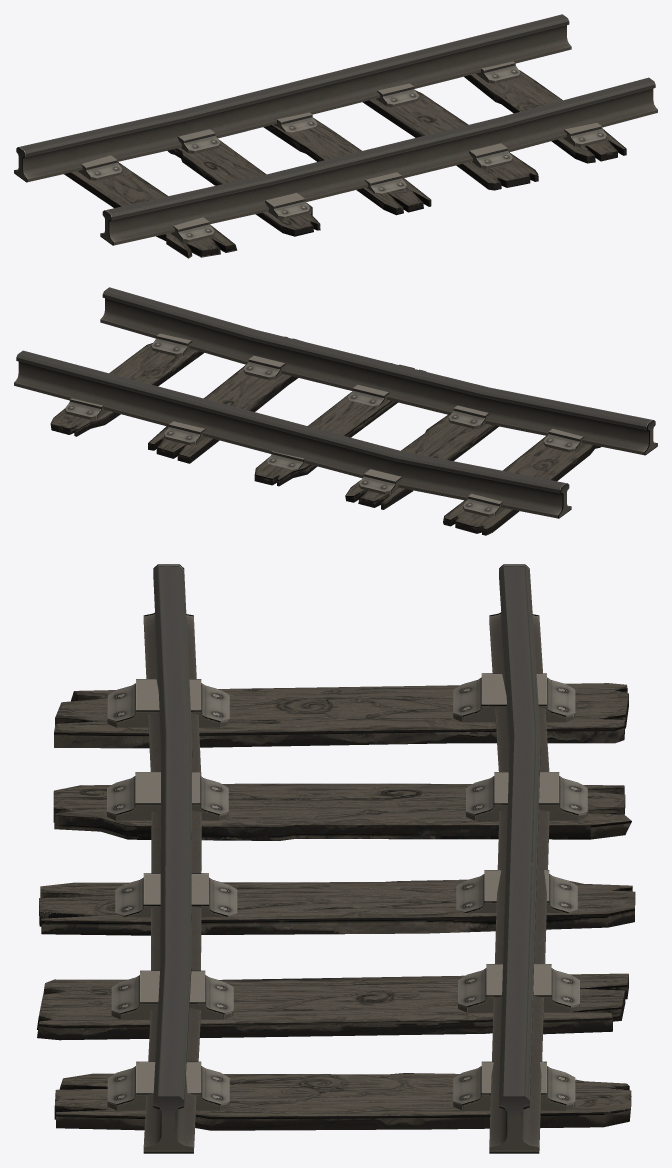
Rendered from mines_tracks001.fbx.
3 renders of one model, top to bottom at view 1: azimuth 30°, elevation 25°; view 2: azimuth 150°, elevation 25°; view 3: azimuth 270°, elevation 25°, orthographic. The views are drawn at different scales.
Visible parts, largest first — view 1: mines_tracks001; view 2: mines_tracks001; view 3: mines_tracks001.
Part boxes in pixels (box(x1,y1,x2,y2)): mines_tracks001: box(14, 14, 657, 258); mines_tracks001: box(14, 287, 657, 535); mines_tracks001: box(37, 564, 635, 1153).
Size of the model in its own units: 256 by 18.87 by 122.
